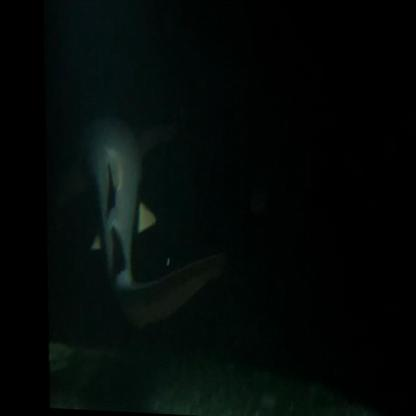shark: (46, 107, 235, 336)
